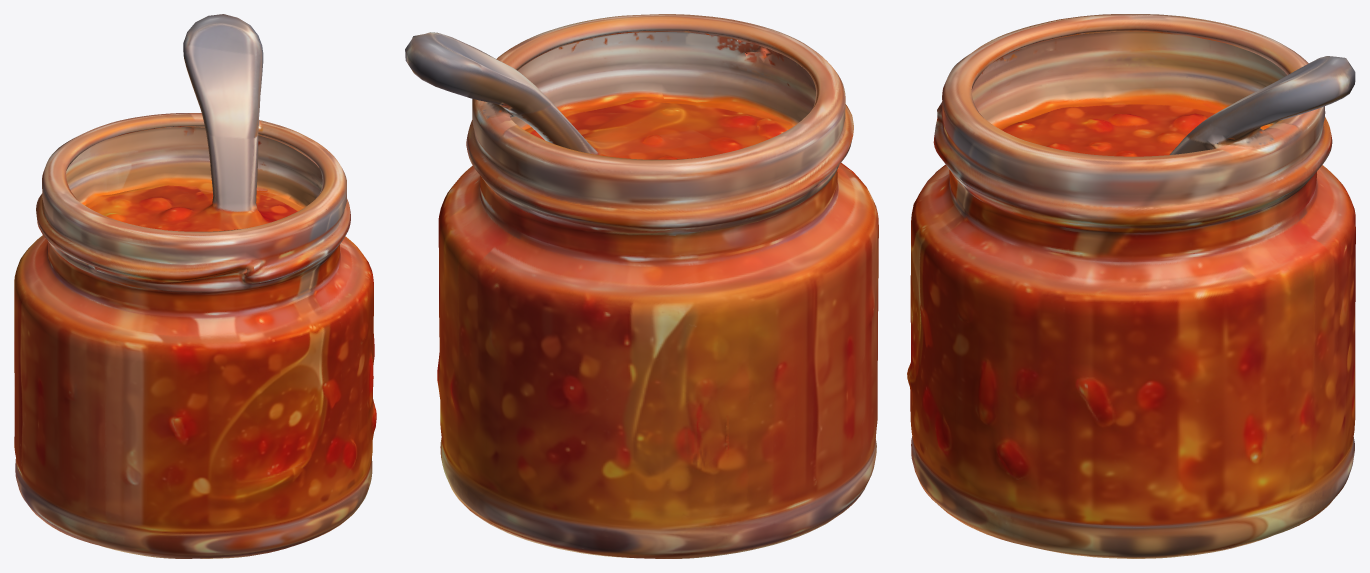
File: SauceSweetAI.fbx
The picture shows the model from 3 angles, left to right: view 1: azimuth 30°, elevation 25°; view 2: azimuth 150°, elevation 25°; view 3: azimuth 270°, elevation 25°; orthographic projection. The views are drawn at different scales.
Parts seen in each view (by area): view 1: Retopo_Mesh.001; view 2: Retopo_Mesh.001; view 3: Retopo_Mesh.001.
Part boxes in pixels (left/top/right/bottom): Retopo_Mesh.001: left=14, top=14, right=376, bottom=558; Retopo_Mesh.001: left=405, top=14, right=878, bottom=558; Retopo_Mesh.001: left=907, top=14, right=1355, bottom=558.
Size of the model in its own units: 0.8511 by 1 by 0.8637.
